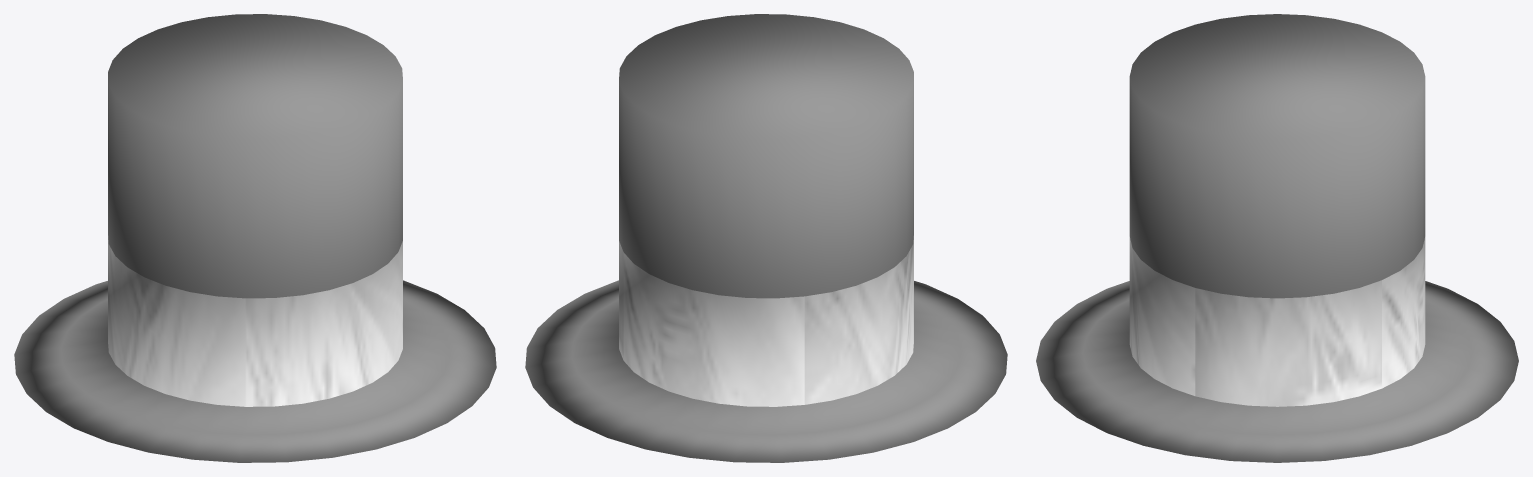
File: item-frostys-top-hat.glb
The picture shows the model from 3 angles, left to right: view 1: azimuth 30°, elevation 25°; view 2: azimuth 150°, elevation 25°; view 3: azimuth 270°, elevation 25°; orthographic projection.
Bounding box in the file's own units: 0.2997 × 0.1948 × 0.2997.
Materials: 2 (1 with a texture image).
